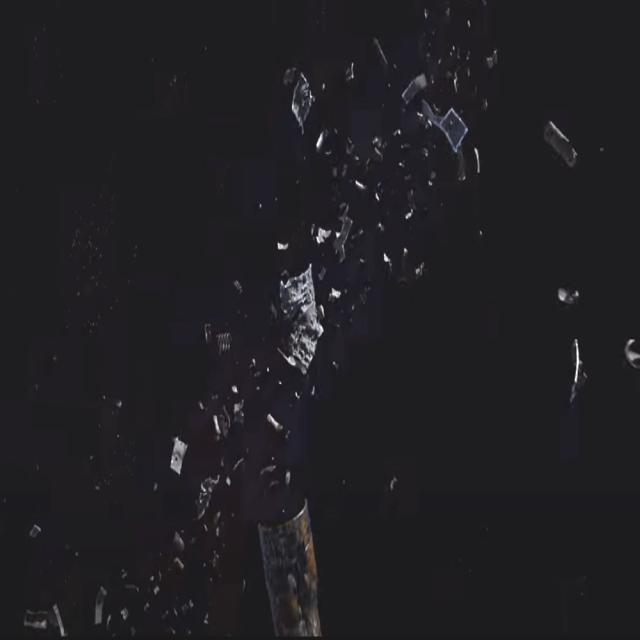large_debris: (256, 489, 324, 640), (396, 59, 472, 160), (273, 269, 323, 374), (546, 118, 580, 172), (193, 469, 223, 526), (283, 75, 316, 123), (562, 334, 584, 398), (165, 433, 188, 481), (334, 204, 355, 256), (365, 34, 392, 74), (89, 582, 110, 628), (552, 280, 585, 308), (212, 404, 232, 439), (622, 333, 639, 371), (469, 144, 487, 177), (50, 604, 65, 639), (19, 613, 45, 631), (232, 396, 248, 424), (342, 58, 358, 85), (217, 329, 232, 356), (265, 410, 282, 433), (371, 134, 386, 160), (168, 528, 185, 550), (316, 225, 332, 248), (310, 133, 325, 154), (351, 178, 368, 195), (171, 556, 187, 573), (371, 188, 382, 210), (328, 282, 340, 301), (233, 276, 243, 298), (276, 238, 289, 254), (414, 256, 423, 278), (382, 250, 392, 268), (31, 520, 42, 535), (230, 379, 239, 396), (285, 462, 292, 482), (203, 322, 211, 339), (404, 209, 414, 221), (322, 76, 325, 92)
